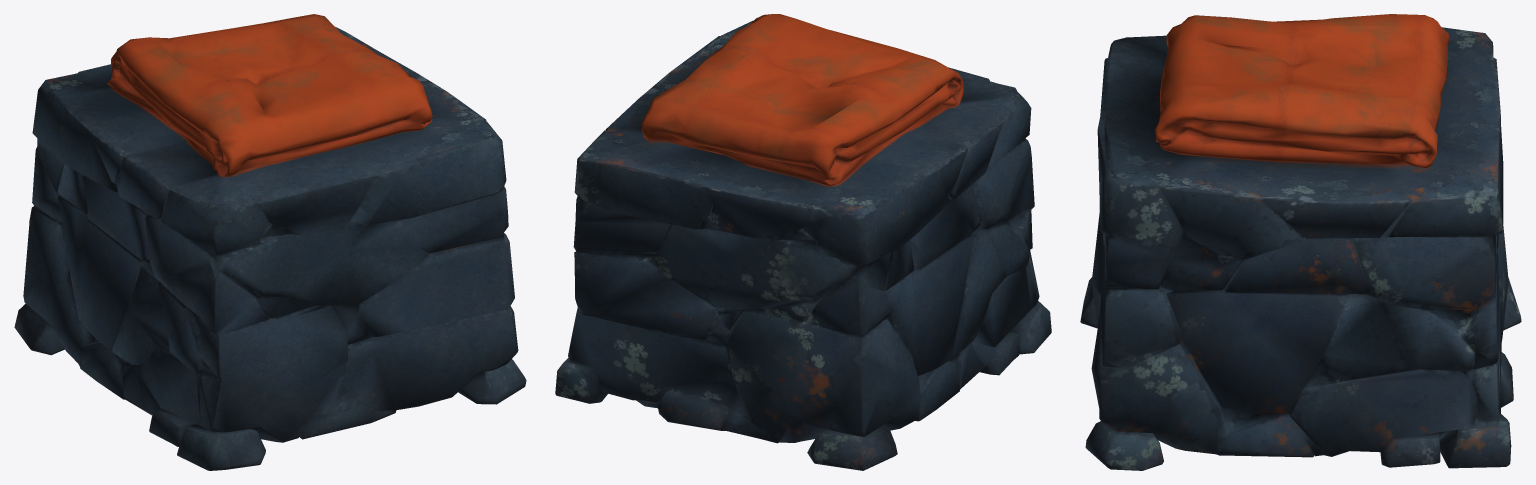
The model's file is seat.glb.
The picture shows the model from 3 angles, left to right: view 1: azimuth 30°, elevation 25°; view 2: azimuth 150°, elevation 25°; view 3: azimuth 270°, elevation 25°; orthographic projection. The views are drawn at different scales.
Parts seen in each view (by area): view 1: tripo_node_437de017-1f2b-420b-b2e8-f03adafc00dd; view 2: tripo_node_437de017-1f2b-420b-b2e8-f03adafc00dd; view 3: tripo_node_437de017-1f2b-420b-b2e8-f03adafc00dd.
Boxes of the visible parts, left/top/right/bottom form: tripo_node_437de017-1f2b-420b-b2e8-f03adafc00dd: left=14, top=14, right=526, bottom=470; tripo_node_437de017-1f2b-420b-b2e8-f03adafc00dd: left=555, top=14, right=1051, bottom=470; tripo_node_437de017-1f2b-420b-b2e8-f03adafc00dd: left=1080, top=14, right=1521, bottom=470.
Size of the model in its own units: 0.6988 by 0.6 by 0.7317.
Materials: 1 (1 with a texture image).
